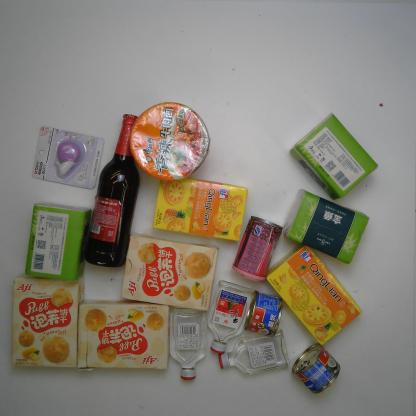Alcohol: (80, 113, 141, 270), (207, 279, 255, 355), (218, 327, 290, 376), (169, 306, 208, 382)
Canned Food: (230, 214, 283, 283), (292, 342, 341, 393), (243, 289, 285, 338)
Dessert: (266, 242, 362, 348), (119, 232, 222, 314), (9, 272, 85, 368), (76, 298, 171, 372), (151, 174, 250, 244)
Instant Noodles: (128, 100, 212, 184)
Stationery: (31, 124, 105, 190)
Tissue: (288, 111, 378, 200), (281, 188, 371, 266), (23, 200, 94, 282)
